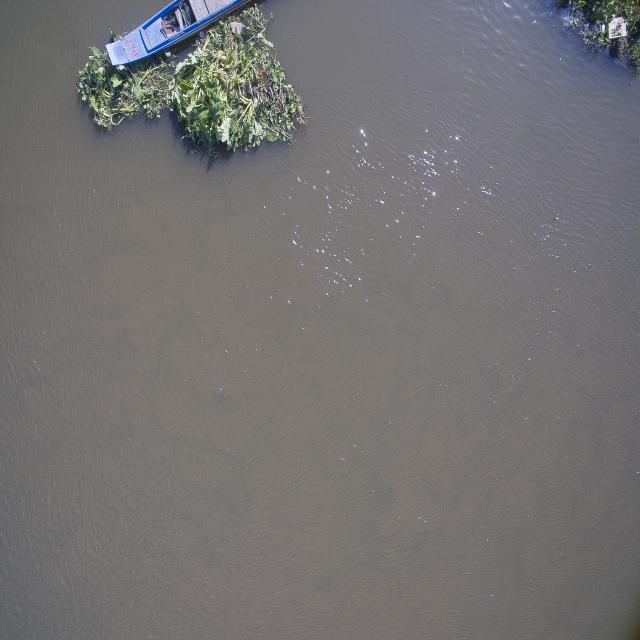plastic: (606, 8, 634, 60), (561, 5, 593, 38)
